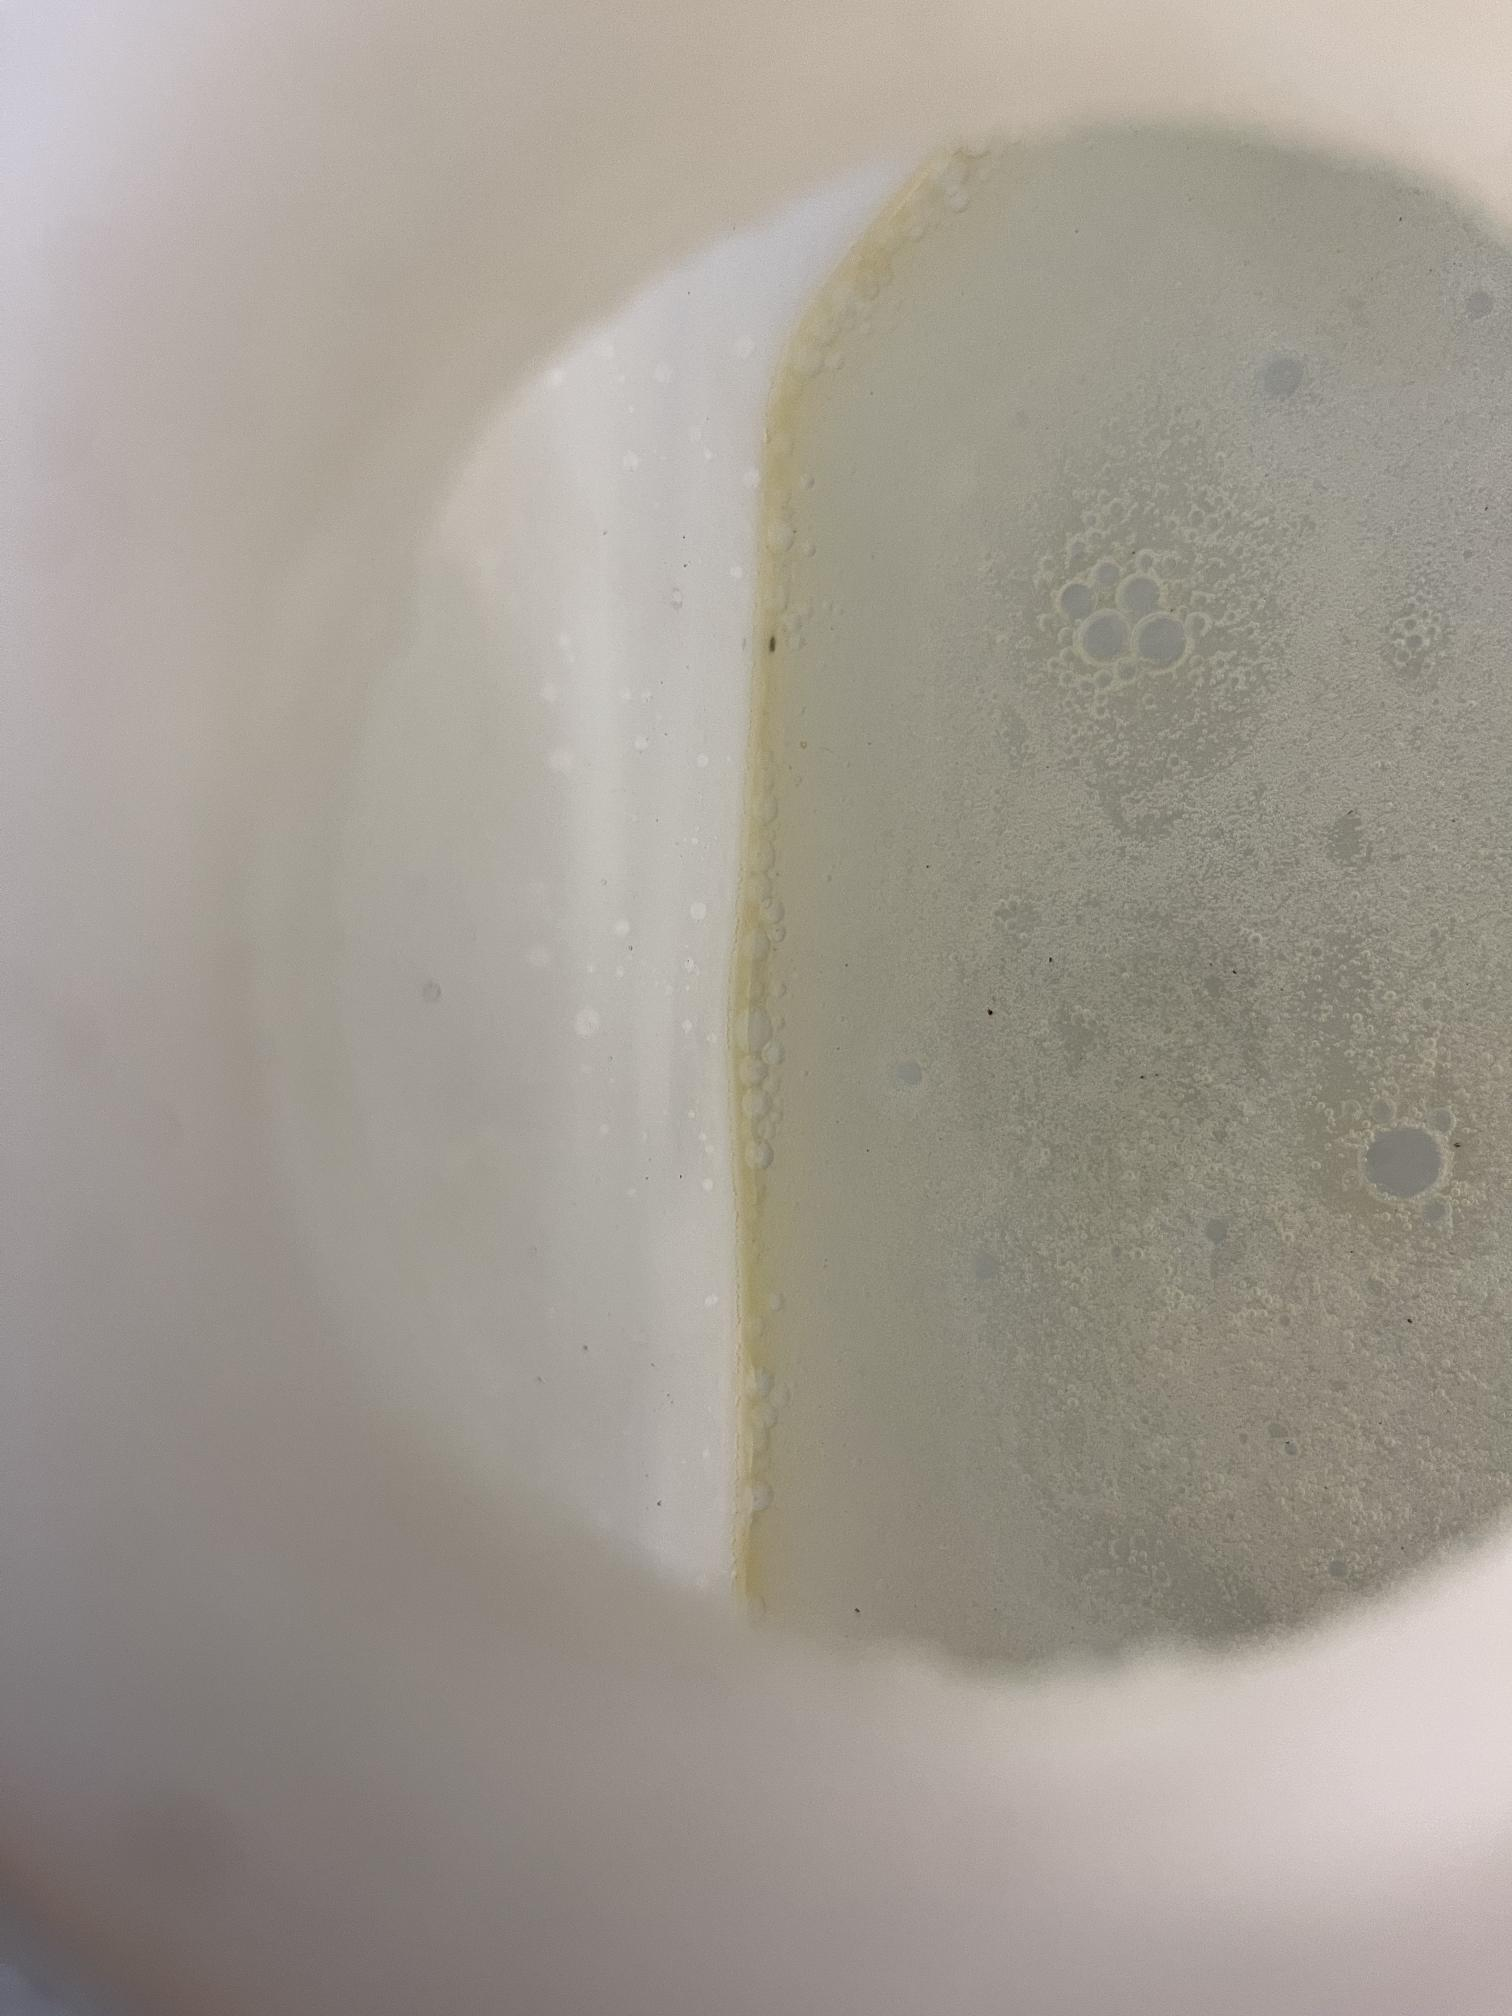Presenca de Oleo - - 60ml: (410, 105, 1425, 1840)
